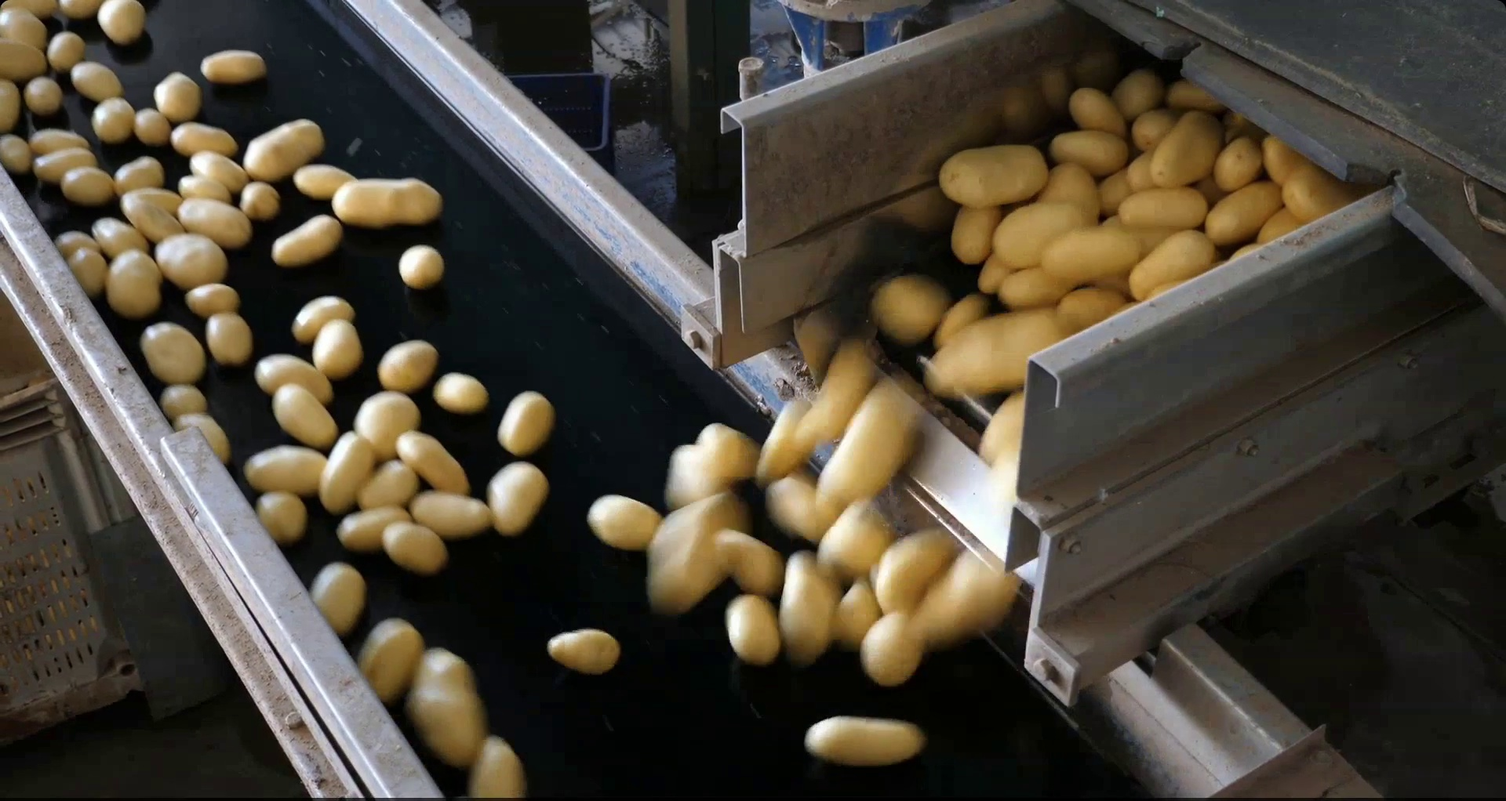potato: (812, 368, 928, 510), (920, 302, 1075, 408), (637, 487, 758, 614), (900, 541, 1025, 658), (400, 644, 492, 774), (806, 332, 881, 458), (866, 524, 960, 624), (933, 138, 1053, 212), (774, 545, 845, 669), (988, 195, 1102, 272), (799, 709, 933, 772), (1123, 225, 1222, 306), (1147, 100, 1232, 194), (812, 495, 900, 583), (1038, 218, 1147, 288), (354, 612, 430, 709), (865, 269, 955, 347), (328, 174, 449, 230), (853, 605, 929, 694), (751, 392, 820, 489), (979, 390, 1029, 518), (238, 115, 329, 184), (1279, 156, 1363, 229), (314, 426, 379, 519), (484, 455, 554, 541), (392, 426, 475, 498), (237, 440, 333, 500), (1202, 176, 1285, 245), (350, 386, 425, 462), (582, 489, 667, 555), (693, 419, 766, 493), (715, 527, 788, 600), (267, 379, 341, 451), (762, 467, 830, 545), (306, 557, 369, 641), (722, 589, 785, 671), (406, 487, 497, 542), (151, 230, 231, 292), (171, 193, 255, 252), (137, 319, 209, 387), (100, 247, 166, 321), (1112, 183, 1211, 232), (495, 384, 559, 459), (463, 730, 530, 801), (266, 212, 348, 270), (1042, 123, 1131, 175), (330, 502, 413, 556), (378, 517, 452, 577), (926, 288, 994, 353), (1035, 154, 1104, 217), (543, 625, 625, 677), (1053, 281, 1135, 333), (828, 576, 882, 654), (251, 350, 336, 399), (995, 262, 1075, 314), (373, 335, 442, 395), (118, 195, 193, 250), (660, 436, 712, 514), (286, 292, 359, 346), (354, 455, 423, 512), (948, 198, 1005, 266), (307, 316, 366, 381), (250, 485, 310, 547), (1210, 130, 1266, 194), (1067, 82, 1129, 139), (184, 143, 254, 192), (202, 306, 256, 369), (195, 45, 271, 88), (1109, 64, 1167, 120), (429, 368, 493, 417), (150, 68, 206, 124), (28, 144, 101, 186), (110, 150, 166, 204), (166, 118, 241, 158), (395, 240, 449, 293), (67, 56, 126, 104), (169, 169, 237, 210), (291, 161, 360, 201), (1128, 103, 1181, 155), (89, 215, 150, 260), (184, 411, 233, 467), (62, 243, 111, 299), (1260, 129, 1305, 189), (57, 165, 120, 207), (26, 123, 98, 159), (1, 34, 49, 87), (157, 380, 213, 425), (182, 281, 246, 320), (95, 1, 150, 46), (89, 95, 139, 144), (1, 2, 51, 51), (1162, 78, 1228, 113), (977, 252, 1020, 305), (1253, 206, 1307, 248), (119, 187, 189, 219), (42, 28, 88, 75), (1094, 166, 1134, 219), (20, 73, 67, 118), (237, 179, 285, 223), (131, 100, 173, 147), (1, 130, 36, 176), (1122, 150, 1162, 189), (55, 227, 102, 260), (1, 1, 58, 28), (1, 72, 24, 137), (1217, 107, 1258, 138), (1, 1, 66, 18), (55, 1, 105, 23), (1224, 238, 1260, 267)
